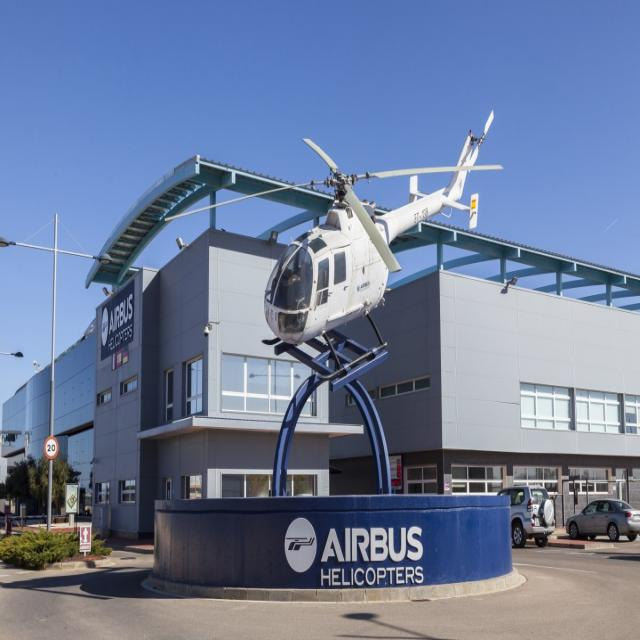helicopter: (253, 97, 507, 411)
